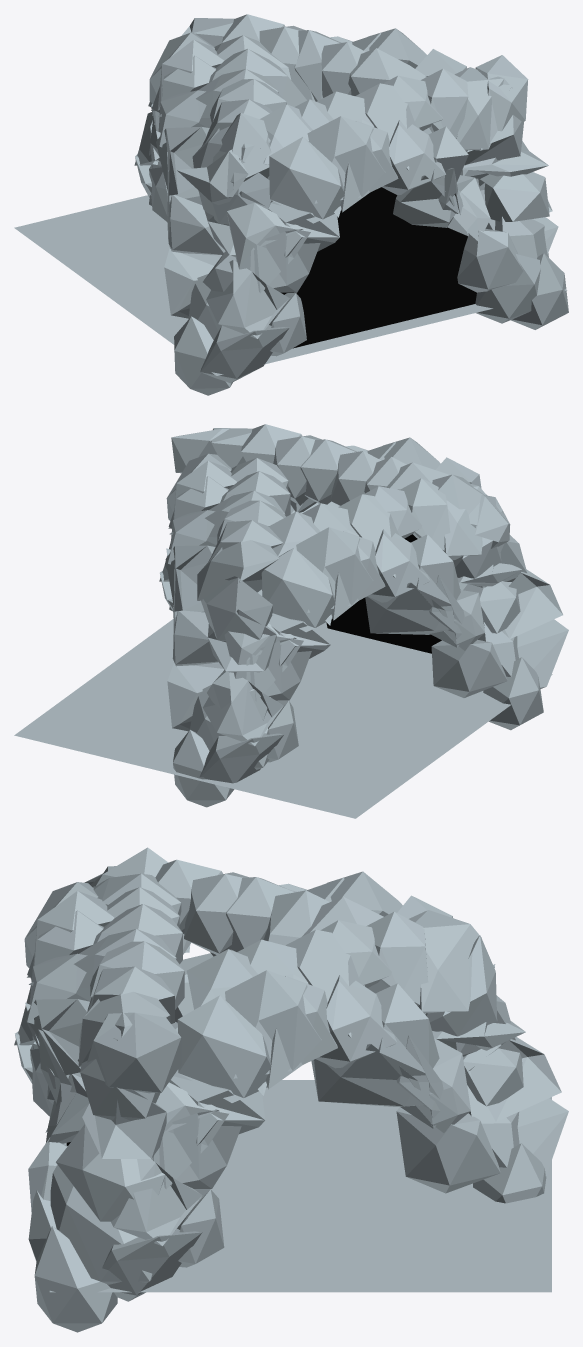
The model's file is cave.fbx.
The picture shows the model from 3 angles, top to bottom: view 1: azimuth 30°, elevation 25°; view 2: azimuth 150°, elevation 25°; view 3: azimuth 270°, elevation 25°; orthographic projection. The views are drawn at different scales.
Visible parts, largest first — view 1: Icosphere; view 2: Icosphere; view 3: Icosphere.
Part boxes in pixels (x1,y1,x2,y2): Icosphere: [14, 14, 568, 395]; Icosphere: [14, 424, 568, 818]; Icosphere: [14, 847, 568, 1332].
Bounding box in the file's own units: 1158 × 761 × 1179.
